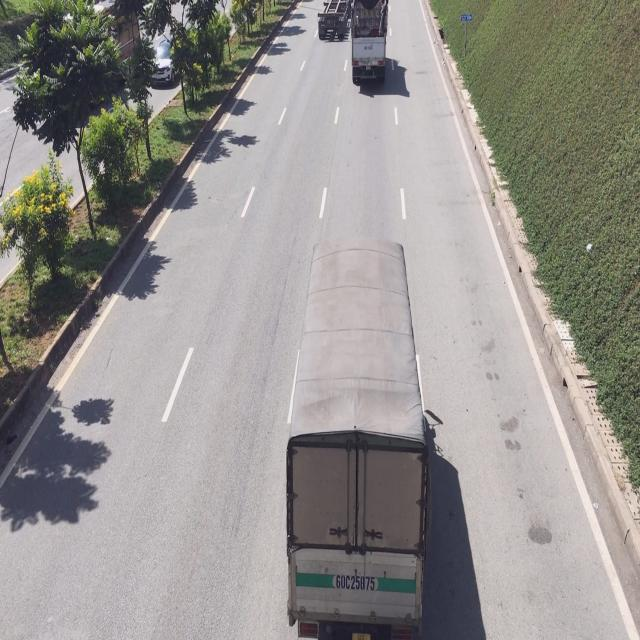truck: (286, 234, 432, 638), (350, 1, 390, 88), (319, 0, 352, 40)
